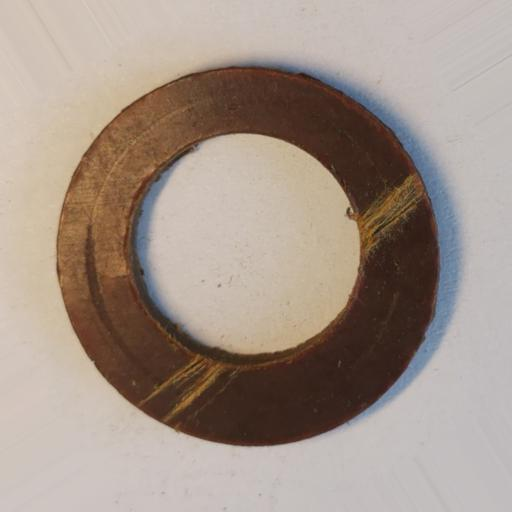defect: (138, 356, 235, 433), (355, 173, 431, 256)
